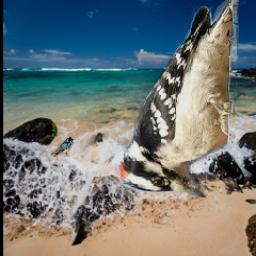Swallow: (50, 136, 74, 157)
Woodpecker: (115, 0, 239, 199)
